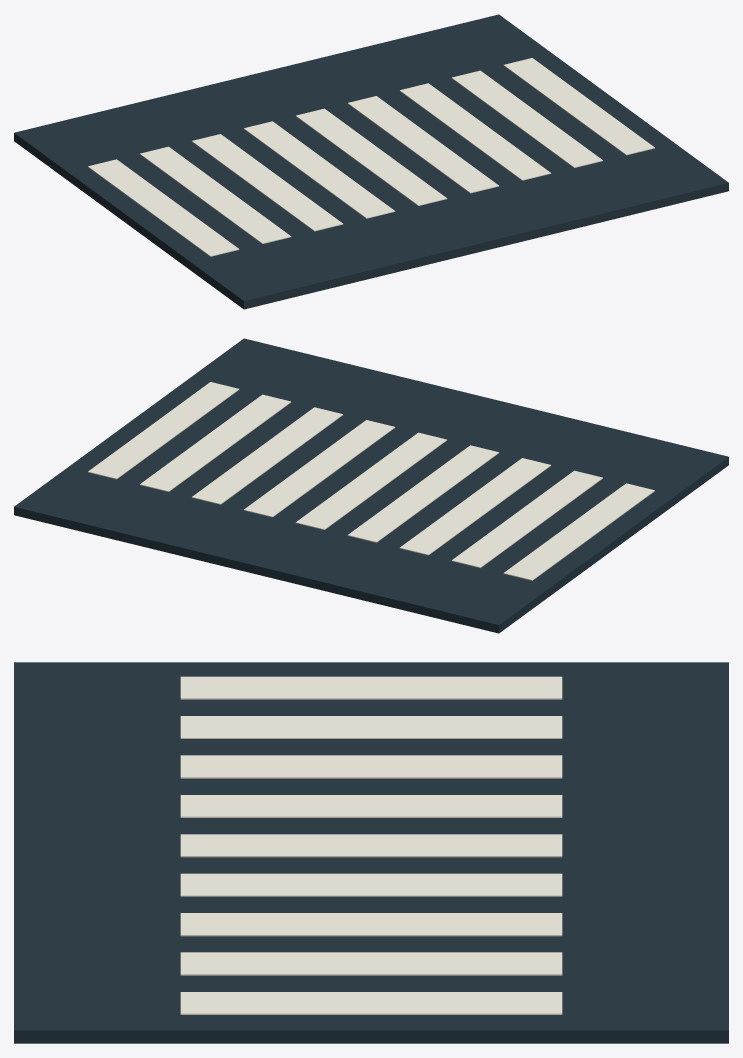
Rendered from scendance-plan-crossing-point.glb.
The picture shows the model from 3 angles, top to bottom: view 1: azimuth 30°, elevation 25°; view 2: azimuth 150°, elevation 25°; view 3: azimuth 270°, elevation 25°; orthographic projection. The views are drawn at different scales.
Bounding box in the file's own units: 4.2 × 0.0765 × 3.45.
